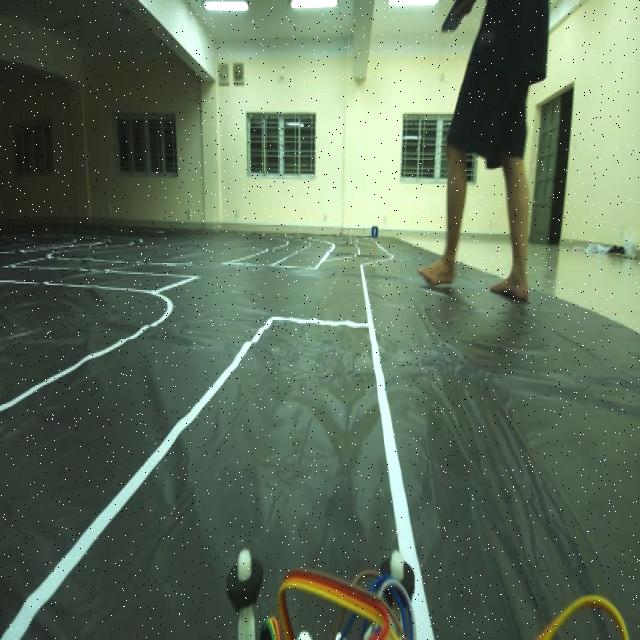onewayroad: (368, 224, 381, 245)
